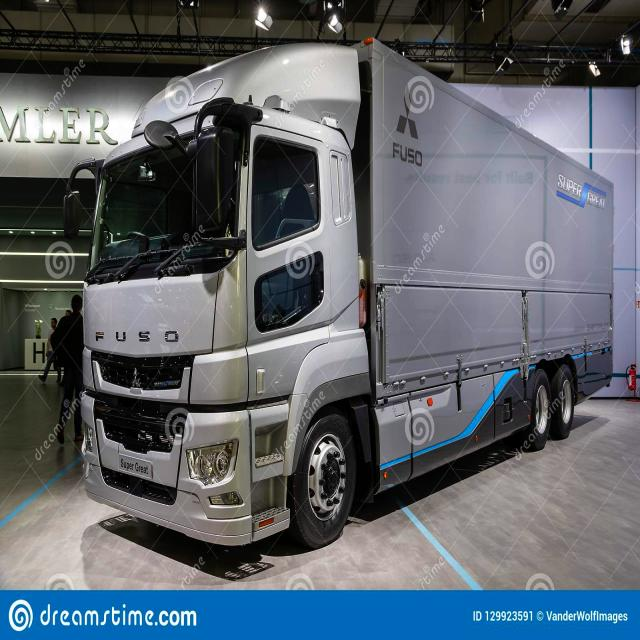truck: (62, 32, 618, 556)
